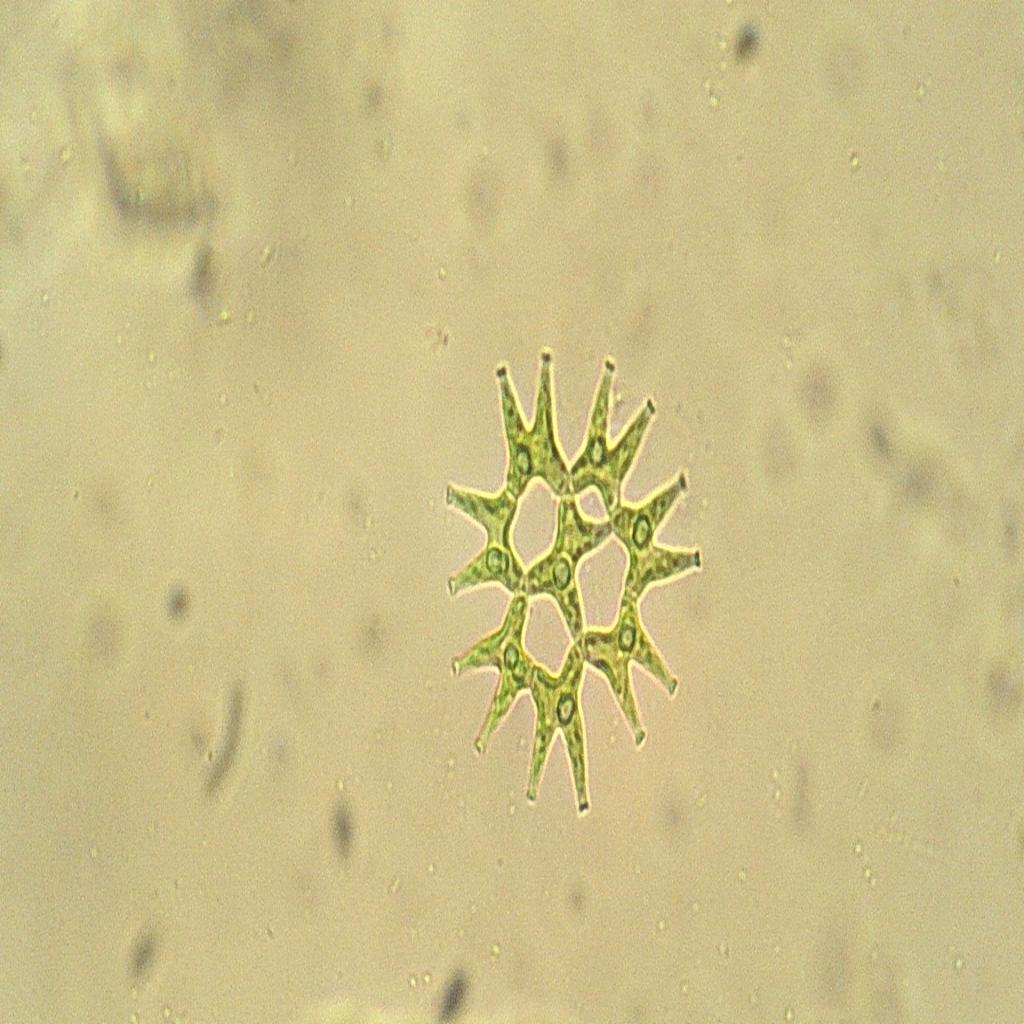Pediastrum_75T: (427, 342, 716, 834)
